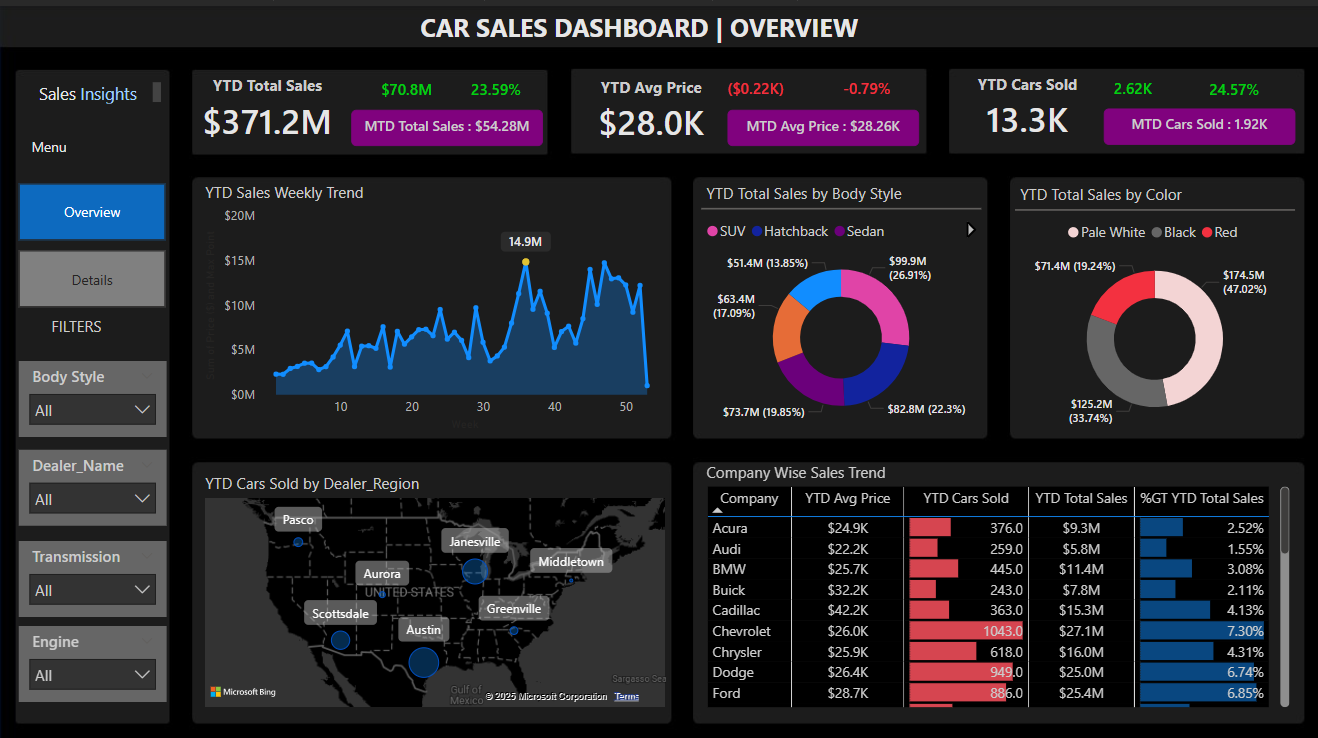

Layout of this report page (visuals, bound fields, positions):
{"tool":"powerbi","page":{"name":"Overview","canvas":[1280,720],"ordinal":0},"visuals":[{"type":"card","title":"YTD Total Sales","fields":{"Values":["Key Measures.YTD Total Sales"]},"box":[185.2,66.6,147.7,69],"z":0},{"type":"card","fields":{"Values":["Key Measures.Sales Difference"]},"box":[353.5,65.4,81.1,36.3],"z":1000},{"type":"card","fields":{"Values":["Key Measures.YOY Sales Growth"]},"box":[434.6,65.4,92,36.3],"z":2000},{"type":"card","fields":{"Values":["Key Measures.MTD KPI"]},"box":[340.1,100.5,185.2,35.1],"z":3000},{"type":"card","title":"YTD Avg Price","fields":{"Values":["Key Measures.YTD Avg Price"]},"box":[556.8,67.8,147.7,69],"z":4000},{"type":"card","fields":{"Values":["Key Measures.Avg Sales Difference"]},"box":[691.2,64.2,81.1,36.3],"z":5000},{"type":"card","fields":{"Values":["Key Measures.YOY Growth Price"]},"box":[798.9,64.2,81.1,36.3],"z":6000},{"type":"card","fields":{"Values":["Key Measures.MTD Price KPI"]},"box":[704.5,100.5,185.2,35.1],"z":7000},{"type":"card","title":"YTD Cars Sold","fields":{"Values":["Key Measures.YTD Cars Sold"]},"box":[921.2,65.4,147.7,69],"z":8000},{"type":"card","fields":{"Values":["Key Measures.Cars Sold Difference"]},"box":[1056.8,64.2,81.1,36.3],"z":9000},{"type":"card","fields":{"Values":["Key Measures.YOY Cars Sold Growth"]},"box":[1154.8,65.4,81.1,35.1],"z":10000},{"type":"card","fields":{"Values":["Key Measures.MTD Cars Sold KPI"]},"box":[1068.9,99.3,185.2,35.1],"z":11000},{"type":"areaChart","title":"YTD Sales Weekly Trend","fields":{"Category":["Date Table.Week"],"Y":["Sum(car_data.Price ($))","Key Measures.Max Point"]},"box":[193.7,169.5,455.1,246.9],"z":12000},{"type":"donutChart","fields":{"Category":["car_data.Body Style"],"Y":["Key Measures.YTD Total Sales"]},"box":[679.1,170.7,271.2,245.7],"z":12001},{"type":"donutChart","fields":{"Y":["Key Measures.YTD Total Sales"],"Category":["car_data.Color"]},"box":[982.9,171.9,271.2,245.7],"z":12002},{"type":"map","fields":{"Category":["car_data.Dealer_Region"],"Size":["Key Measures.YTD Cars Sold"]},"box":[193.7,451.5,455.1,232.4],"z":12003},{"type":"tableEx","title":"Company Wise Sales Trend","fields":{"Values":["car_data.Company","Key Measures.YTD Avg Price","Key Measures.YTD Cars Sold","Key Measures.YTD Total Sales1","Key Measures.YTD Total Sales"]},"box":[679.1,440.6,575,243.3],"z":12004},{"type":"textbox","box":[401.9,0,476.9,46],"z":12005},{"type":"slicer","fields":{"Values":["car_data.Body Style"]},"box":[18.2,343.8,142.8,73.8],"z":12006},{"type":"slicer","fields":{"Values":["car_data.Dealer_Name"]},"box":[18.2,429.7,142.8,73.8],"z":12007},{"type":"slicer","fields":{"Values":["car_data.Transmission"]},"box":[18.2,518.1,142.8,73.8],"z":12008},{"type":"slicer","fields":{"Values":["car_data.Engine"]},"box":[18.2,600.4,142.8,73.8],"z":12009},{"type":"textbox","box":[44.8,295.4,69,30.3],"z":12010},{"type":"textbox","box":[32.7,69,128.3,30.3],"z":12011},{"type":"textbox","box":[25.4,122.3,70.2,30.3],"z":12012},{"type":"pageNavigator","box":[18.2,171.9,142.8,121],"z":12013}]}

Visuals, with their boxes in screenshot pixels (x1, y1, x2, y2), scaled from the page's 1280x720 canvas onto the 1318x738 screenshot:
"YTD Total Sales" card: pyautogui.locateOnScreen(191, 68, 343, 139)
card - Key Measures.Sales Difference: pyautogui.locateOnScreen(364, 67, 448, 104)
card - Key Measures.YOY Sales Growth: pyautogui.locateOnScreen(448, 67, 542, 104)
card - Key Measures.MTD KPI: pyautogui.locateOnScreen(350, 103, 541, 139)
"YTD Avg Price" card: pyautogui.locateOnScreen(573, 69, 725, 140)
card - Key Measures.Avg Sales Difference: pyautogui.locateOnScreen(712, 66, 795, 103)
card - Key Measures.YOY Growth Price: pyautogui.locateOnScreen(823, 66, 906, 103)
card - Key Measures.MTD Price KPI: pyautogui.locateOnScreen(725, 103, 916, 139)
"YTD Cars Sold" card: pyautogui.locateOnScreen(949, 67, 1101, 138)
card - Key Measures.Cars Sold Difference: pyautogui.locateOnScreen(1088, 66, 1172, 103)
card - Key Measures.YOY Cars Sold Growth: pyautogui.locateOnScreen(1189, 67, 1273, 103)
card - Key Measures.MTD Cars Sold KPI: pyautogui.locateOnScreen(1101, 102, 1291, 138)
"YTD Sales Weekly Trend" areaChart: pyautogui.locateOnScreen(199, 174, 668, 427)
donutChart - car_data.Body Style x Key Measures.YTD Total Sales: pyautogui.locateOnScreen(699, 175, 979, 427)
donutChart - Key Measures.YTD Total Sales x car_data.Color: pyautogui.locateOnScreen(1012, 176, 1291, 428)
map - car_data.Dealer_Region x Key Measures.YTD Cars Sold: pyautogui.locateOnScreen(199, 463, 668, 701)
"Company Wise Sales Trend" tableEx: pyautogui.locateOnScreen(699, 452, 1291, 701)
textbox: pyautogui.locateOnScreen(414, 0, 905, 47)
slicer - car_data.Body Style: pyautogui.locateOnScreen(19, 352, 166, 428)
slicer - car_data.Dealer_Name: pyautogui.locateOnScreen(19, 440, 166, 516)
slicer - car_data.Transmission: pyautogui.locateOnScreen(19, 531, 166, 607)
slicer - car_data.Engine: pyautogui.locateOnScreen(19, 615, 166, 691)
textbox: pyautogui.locateOnScreen(46, 303, 117, 334)
textbox: pyautogui.locateOnScreen(34, 71, 166, 102)
textbox: pyautogui.locateOnScreen(26, 125, 98, 156)
pageNavigator: pyautogui.locateOnScreen(19, 176, 166, 300)
